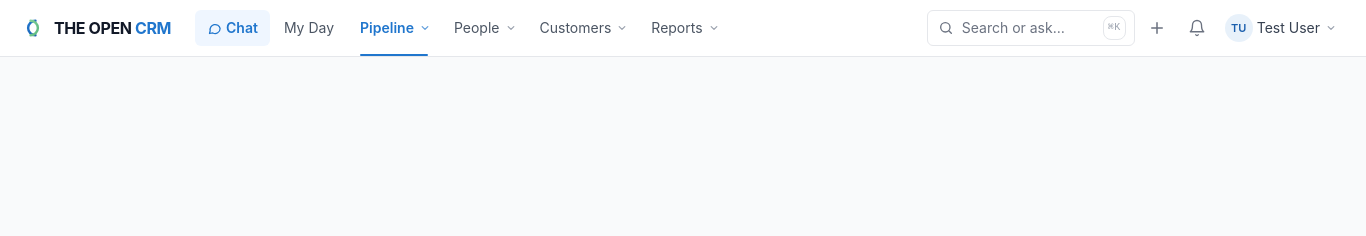
Test: Nav — grouped top bar › hides items whose feature flag is off
Click the button with aria-label "Pipeline menu": (394, 28) [348, 10, 440, 46]
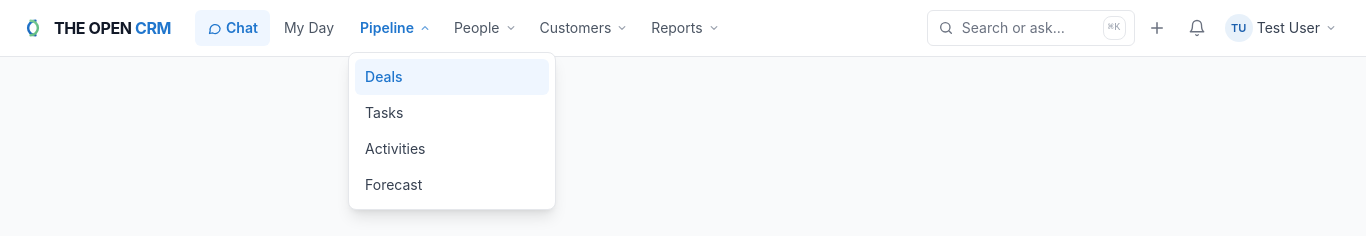
Now the menu item "Deals" is shown, box [355, 59, 549, 95]
